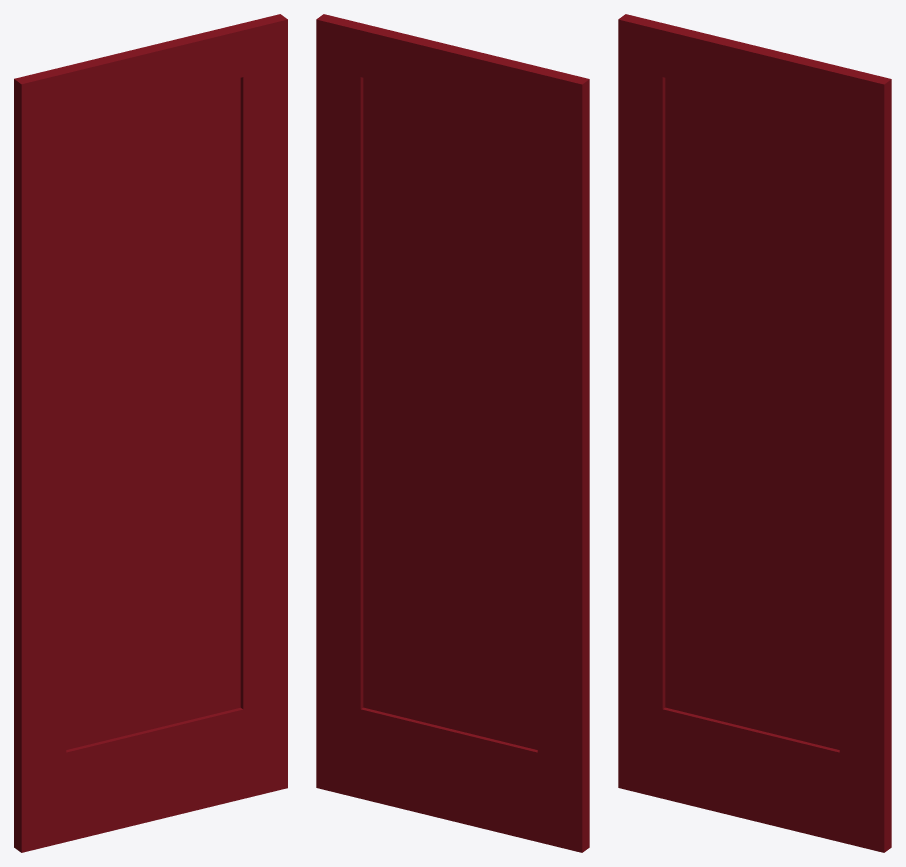
The model's file is SideDoor_Swing_01.fbx.
3 renders of one model, left to right at view 1: azimuth 30°, elevation 25°; view 2: azimuth 150°, elevation 25°; view 3: azimuth 330°, elevation 25°, orthographic.
Visible parts, largest first — view 1: DoorSide_Swing_01; view 2: DoorSide_Swing_01; view 3: DoorSide_Swing_01.
Part boxes in pixels (x1,y1,x2,y2): DoorSide_Swing_01: [14, 14, 287, 852]; DoorSide_Swing_01: [316, 14, 589, 852]; DoorSide_Swing_01: [618, 14, 891, 852].
Size of the model in its own units: 28.19 by 1.41 by 77.76.
